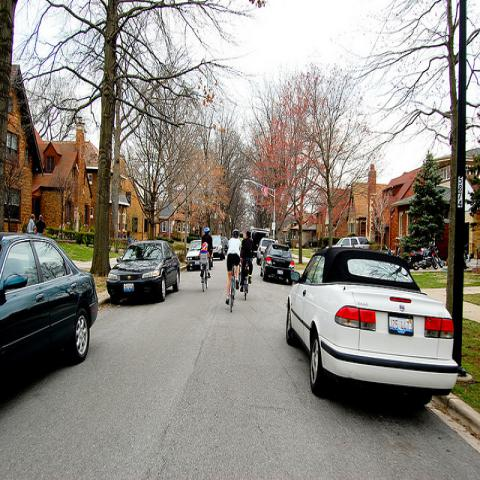car: (285, 249, 460, 418), (2, 231, 101, 380), (105, 241, 181, 302), (260, 244, 295, 286), (332, 236, 383, 252), (184, 240, 202, 270), (256, 238, 276, 264), (210, 235, 225, 262), (252, 232, 267, 257), (221, 236, 228, 255)
motorcycle: (408, 250, 438, 269), (427, 241, 443, 269)
